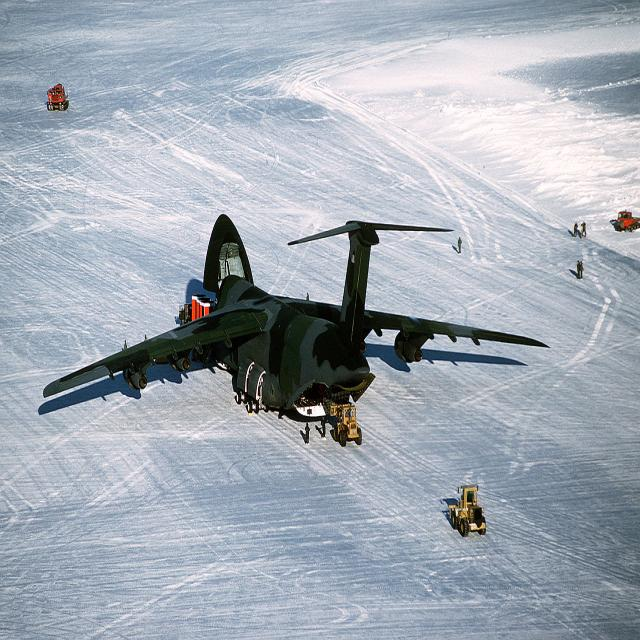MIL_Plane: (42, 213, 551, 418)
